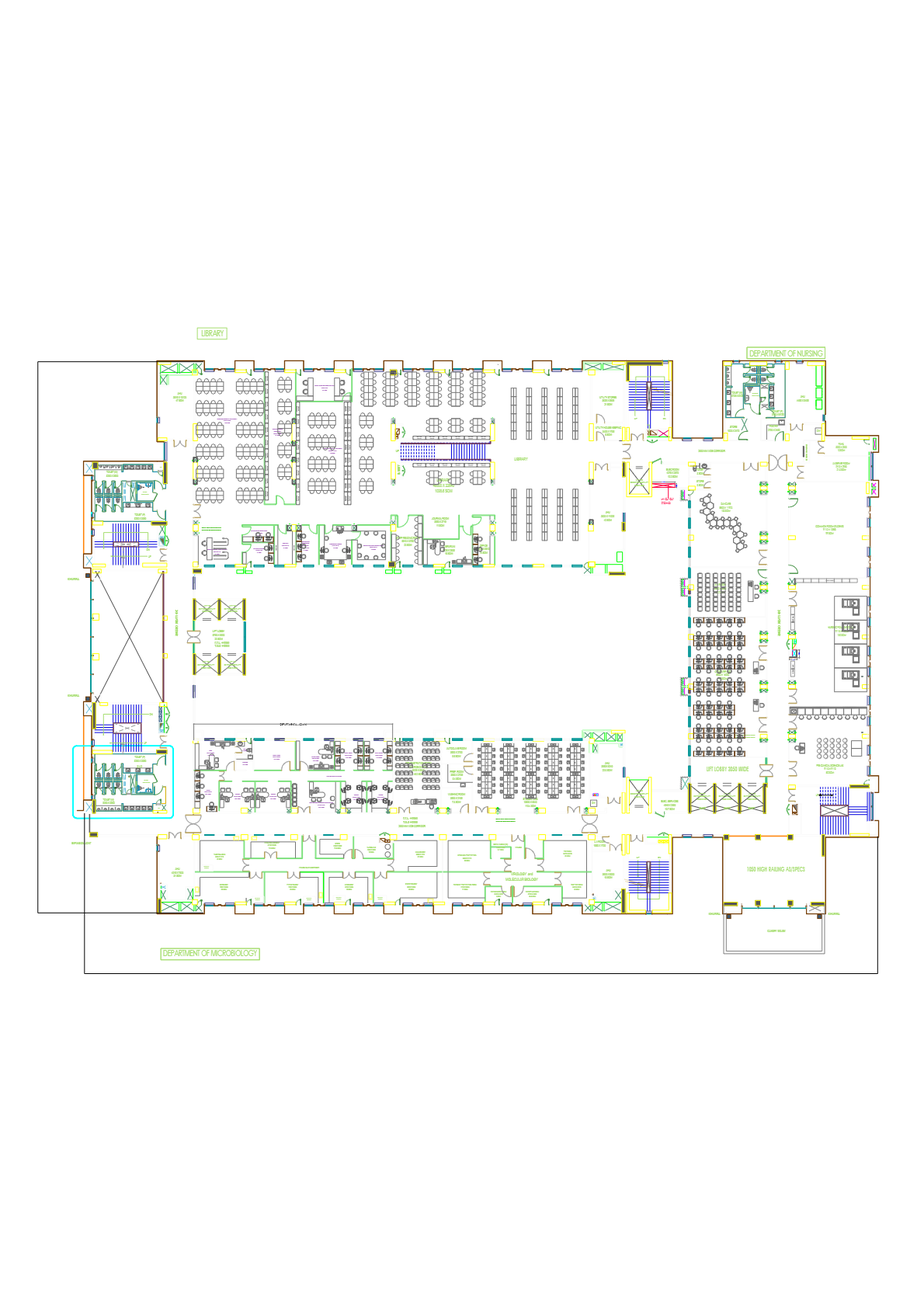door: (768, 454, 787, 471), (581, 814, 598, 833), (185, 814, 202, 833), (186, 630, 201, 644), (759, 764, 773, 777), (758, 549, 768, 566), (397, 514, 409, 528), (788, 761, 798, 777), (759, 645, 768, 661), (788, 714, 797, 730), (759, 717, 768, 733), (743, 462, 759, 471), (622, 444, 631, 460), (788, 591, 797, 606), (789, 689, 798, 704), (159, 548, 168, 562), (749, 404, 760, 415), (525, 848, 536, 859), (463, 752, 474, 763), (790, 423, 804, 431), (630, 433, 644, 441), (595, 463, 609, 471), (607, 796, 621, 804), (630, 834, 644, 842), (567, 806, 581, 814), (554, 872, 562, 886), (511, 834, 525, 842), (504, 858, 512, 872), (483, 872, 491, 886), (297, 806, 311, 814), (374, 871, 388, 879), (287, 871, 301, 879), (242, 858, 250, 872), (159, 735, 167, 749), (193, 504, 201, 518), (757, 569, 768, 579), (463, 765, 474, 775), (737, 431, 749, 440), (797, 466, 805, 479), (788, 789, 796, 802), (303, 834, 316, 842), (264, 851, 277, 859), (774, 431, 784, 441), (788, 498, 798, 508), (788, 564, 798, 574), (596, 414, 606, 424), (281, 760, 291, 770), (341, 392, 351, 402), (173, 440, 187, 447), (168, 832, 182, 839), (342, 872, 356, 879), (249, 872, 263, 879), (610, 843, 622, 851), (387, 859, 395, 871), (818, 441, 825, 454), (398, 806, 411, 813), (475, 806, 488, 813), (596, 431, 605, 441), (355, 849, 364, 859), (226, 760, 235, 770), (300, 760, 309, 770), (460, 803, 469, 813), (154, 786, 163, 796), (154, 480, 163, 490), (157, 510, 166, 520), (242, 526, 252, 535), (278, 525, 287, 535), (472, 517, 482, 526), (462, 526, 471, 536), (537, 859, 544, 871), (343, 849, 352, 858), (157, 756, 166, 765), (276, 495, 285, 504), (242, 544, 251, 553), (324, 525, 333, 534), (352, 531, 361, 540), (766, 409, 775, 417), (735, 409, 744, 417), (309, 525, 317, 534), (219, 770, 225, 781), (95, 763, 103, 771), (743, 367, 751, 374), (766, 367, 774, 374), (743, 376, 751, 383), (766, 376, 774, 383), (704, 481, 711, 489), (602, 836, 609, 844), (234, 746, 242, 753), (115, 787, 122, 795), (105, 787, 112, 795), (96, 787, 103, 795), (105, 481, 112, 489), (115, 481, 122, 489), (115, 504, 122, 512), (105, 504, 112, 512), (96, 504, 103, 512), (704, 468, 711, 475), (105, 764, 112, 771), (115, 764, 122, 771), (96, 481, 103, 488), (394, 898, 400, 906), (246, 898, 252, 906), (863, 439, 870, 445), (863, 779, 870, 785), (494, 899, 500, 906), (544, 899, 550, 906), (345, 898, 351, 905), (296, 899, 302, 906), (245, 738, 252, 744), (246, 561, 252, 568), (394, 738, 401, 744), (544, 369, 550, 376), (494, 369, 500, 376), (444, 369, 450, 376), (345, 369, 351, 376), (295, 369, 301, 376), (246, 369, 252, 376), (688, 490, 694, 496), (444, 738, 450, 744), (126, 788, 132, 794), (444, 561, 450, 567), (197, 369, 203, 375), (583, 562, 589, 568), (760, 397, 766, 402), (197, 899, 202, 905), (156, 798, 161, 804), (126, 482, 132, 487), (395, 561, 400, 567), (158, 472, 163, 477), (396, 370, 401, 375)
